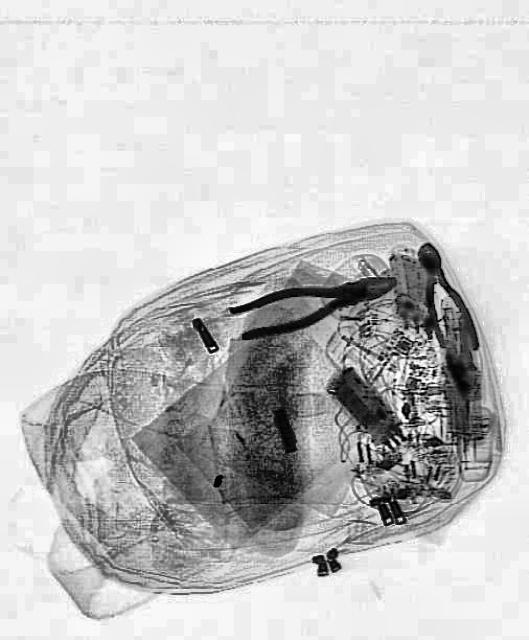Pliers: (226, 256, 400, 346), (405, 235, 481, 362)
